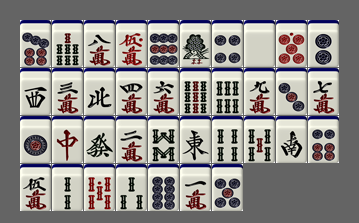0m: (116, 20, 147, 67)
0p: (276, 20, 307, 67)
0s: (84, 164, 115, 211)
1m: (180, 164, 211, 211)
1p: (20, 116, 51, 163)
1s: (180, 20, 211, 67)
1z: (180, 116, 211, 163)
2m: (116, 116, 147, 163)
2p: (308, 20, 339, 67)
2s: (52, 164, 83, 211)
2z: (276, 116, 307, 163)
3m: (52, 68, 83, 115)
3p: (276, 68, 307, 115)
3s: (116, 164, 147, 211)
3z: (20, 68, 51, 115)
4m: (116, 68, 147, 115)
4p: (212, 20, 243, 67)
4s: (212, 116, 243, 163)
4z: (84, 68, 115, 115)
5m: (20, 164, 51, 211)
5p: (212, 164, 243, 211)
5s: (244, 116, 275, 163)
5z: (244, 20, 275, 67)
6m: (148, 68, 179, 115)
6p: (308, 116, 339, 163)
6s: (212, 68, 243, 115)
6z: (84, 116, 115, 163)
7m: (308, 68, 339, 115)
7p: (20, 20, 51, 67)
7s: (52, 20, 83, 67)
7z: (52, 116, 83, 163)
8m: (84, 20, 115, 67)
8p: (148, 164, 179, 211)
8s: (148, 116, 179, 163)
9m: (244, 68, 275, 115)
9p: (148, 20, 179, 67)
9s: (180, 68, 211, 115)
